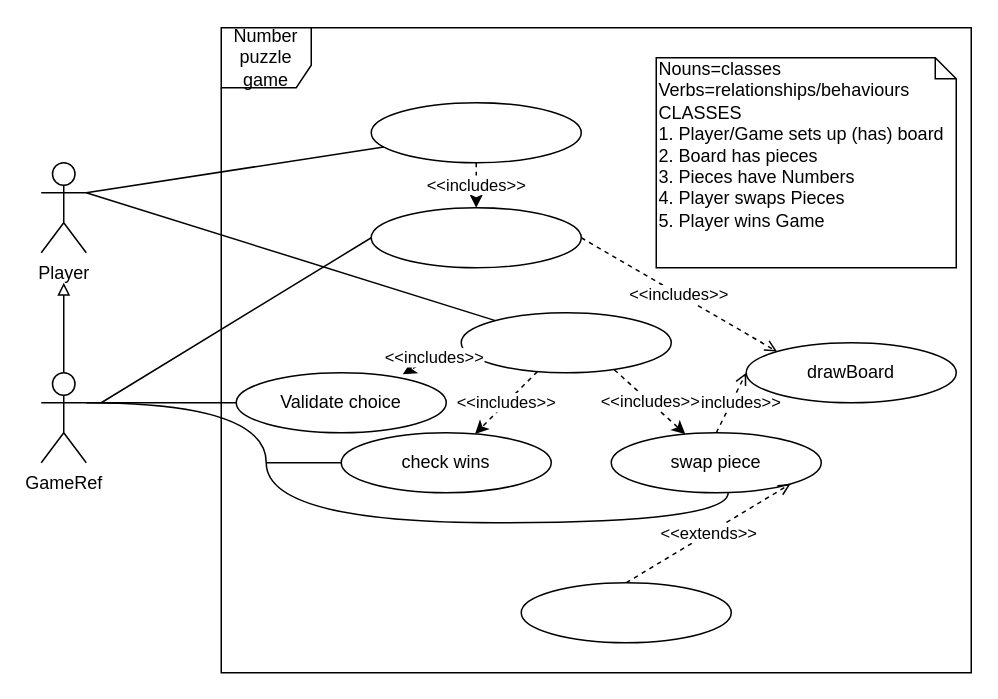
Image size: 998x699. Some labels were removed from this diagram. The centre of each missing label's shape, as x and y in pixels:
"game won" belongs at [625,612].
"initiate game/board" belongs at [475,132].
"randomise pieces" belongs at [475,237].
"select a piece to swap" belongs at [565,342].
